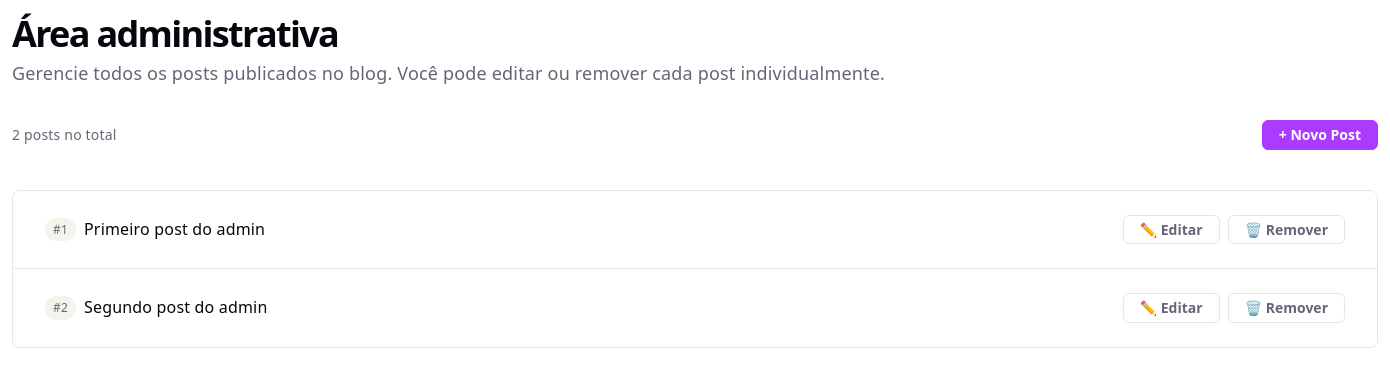
Scenario: <AdminArea /> › DELETE fluxo 2-passos: Remover → Confirmar Exclusão → DELETE /posts/:id
Check: the text "Primeiro post do admin" is shown, box [84,218,265,240]
Passo 1: clique em Remover (primeiro item)
Click the button with aria-label "remover post": [1286, 229] box [1228,215,1345,244]
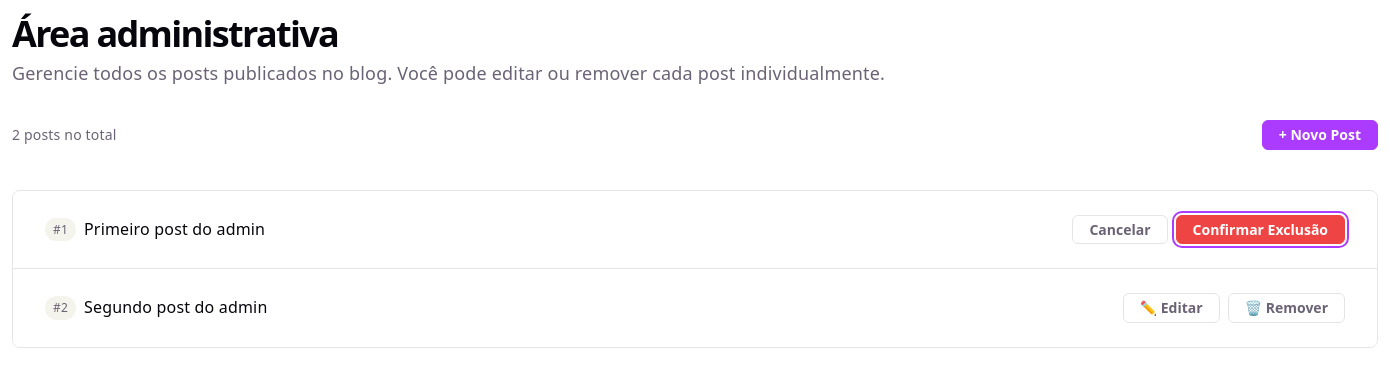
Check: the button "Confirmar Exclusão" is shown
Check: the button with aria-label "cancelar exclusão" is shown, box [1072,215,1168,244]
Passo 2: confirmar a exclusão
Click the button "Confirmar Exclusão": [1260, 229] box [1176,215,1345,244]
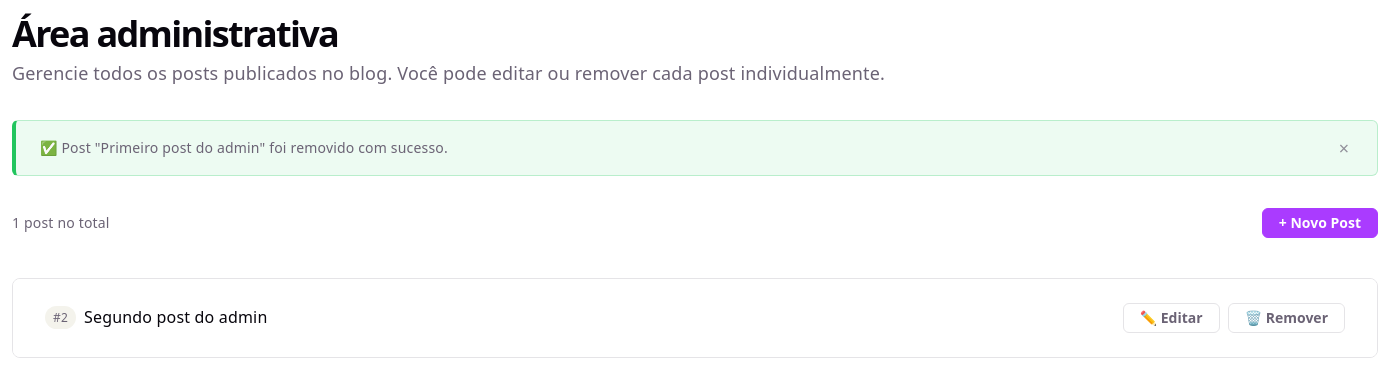
Check: the link "Segundo post do admin" is shown, box [84,306,268,328]
Check: the text "1 post no total" is shown, box [12,212,110,234]
